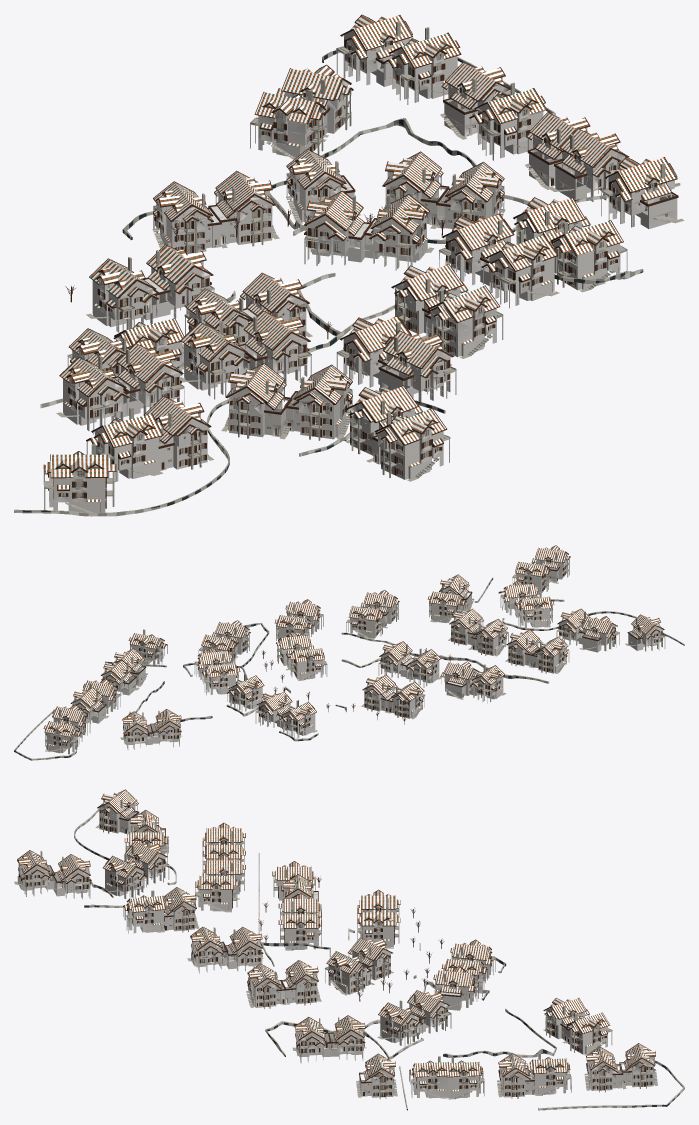
The model's file is context-buildings.glb.
The picture shows the model from 3 angles, top to bottom: view 1: azimuth 30°, elevation 25°; view 2: azimuth 150°, elevation 25°; view 3: azimuth 270°, elevation 25°; orthographic projection. The views are drawn at different scales.
Visible parts, largest first — view 1: context-buildings-other-3, context-buildings-tile-2, context-buildings-wood-4, context-buildings-other-1; view 2: context-buildings-other-3, context-buildings-tile-2, context-buildings-wood-4, context-buildings-other-1; view 3: context-buildings-tile-2, context-buildings-other-3, context-buildings-wood-4, context-buildings-other-1.
Boxes of the visible parts, x1=… form: context-buildings-other-3: x1=43, y1=25, x2=677, y2=512; context-buildings-tile-2: x1=44, y1=15, x2=676, y2=501; context-buildings-wood-4: x1=43, y1=14, x2=678, y2=508; context-buildings-other-1: x1=14, y1=21, x2=684, y2=516; context-buildings-other-3: x1=46, y1=553, x2=665, y2=754; context-buildings-tile-2: x1=44, y1=545, x2=662, y2=746; context-buildings-wood-4: x1=43, y1=545, x2=664, y2=747; context-buildings-other-1: x1=14, y1=552, x2=684, y2=760; context-buildings-tile-2: x1=17, y1=790, x2=655, y2=1091; context-buildings-other-3: x1=17, y1=799, x2=654, y2=1098; context-buildings-wood-4: x1=17, y1=789, x2=655, y2=1096; context-buildings-other-1: x1=14, y1=799, x2=684, y2=1110.
Bounding box in the file's own units: 253 × 40.47 × 270.
Materials: 5 (5 with a texture image).
